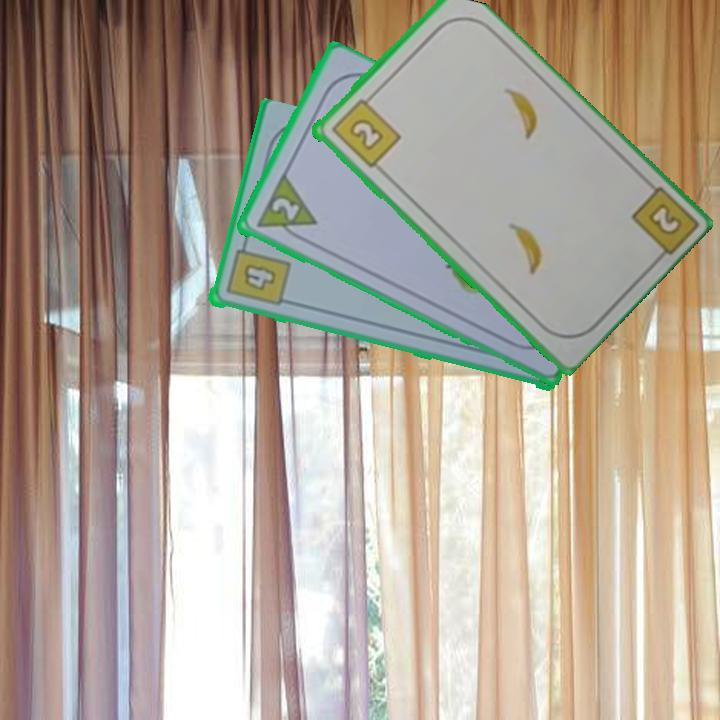2b: (327, 90, 403, 171), (644, 199, 685, 239)
2p: (252, 171, 320, 246)
4b: (222, 237, 292, 310)
